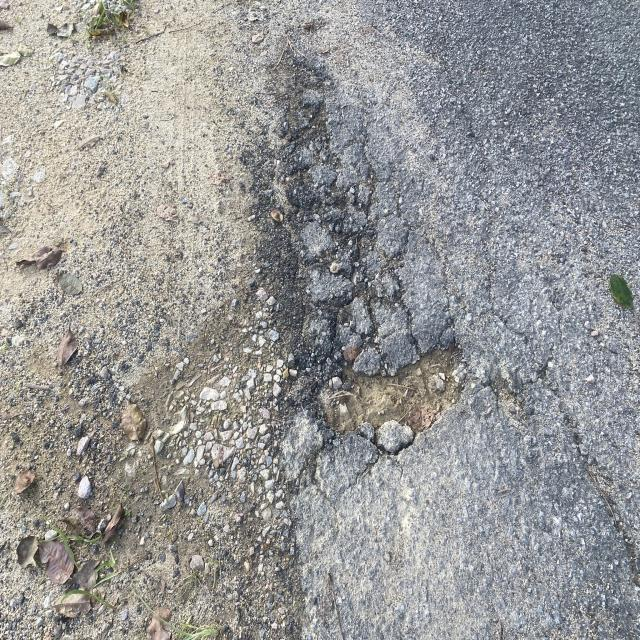Pothole: (235, 52, 478, 533)
